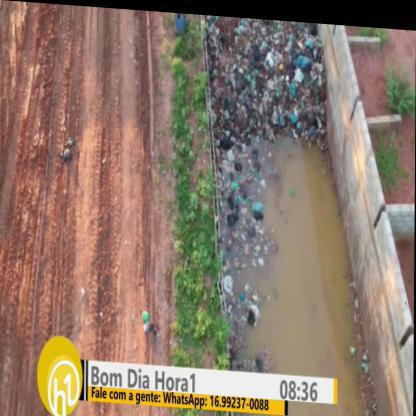agua: (260, 148, 325, 357)
lixo: (227, 26, 317, 135)
